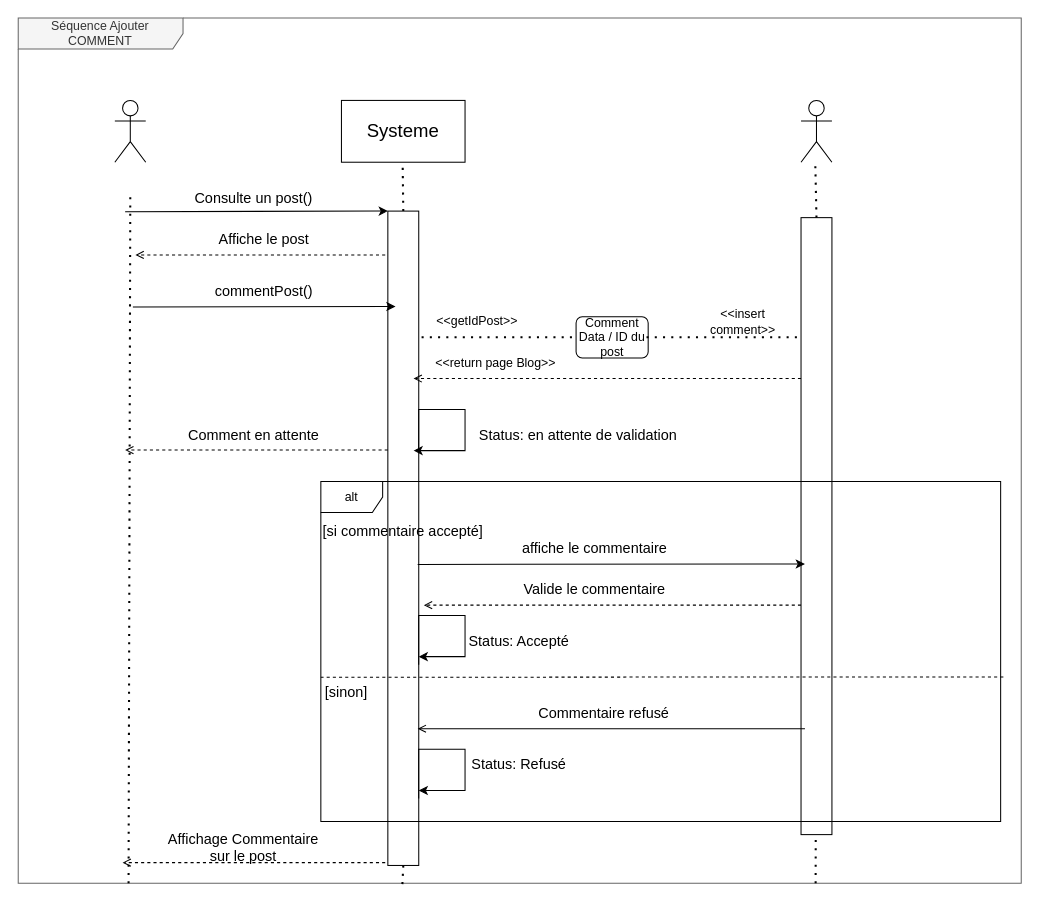
Image size: 1039x904. Some labels were removed from this diagram. The centre of each missing label's shape, as x and y in pixels:
"Administrateur" belongs at point (816, 130).
"VISITEUR" belongs at point (130, 130).
